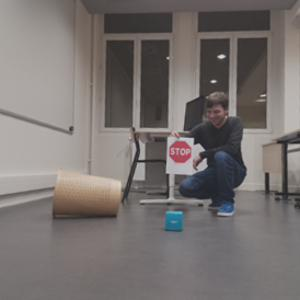stop: (169, 140, 192, 163)
